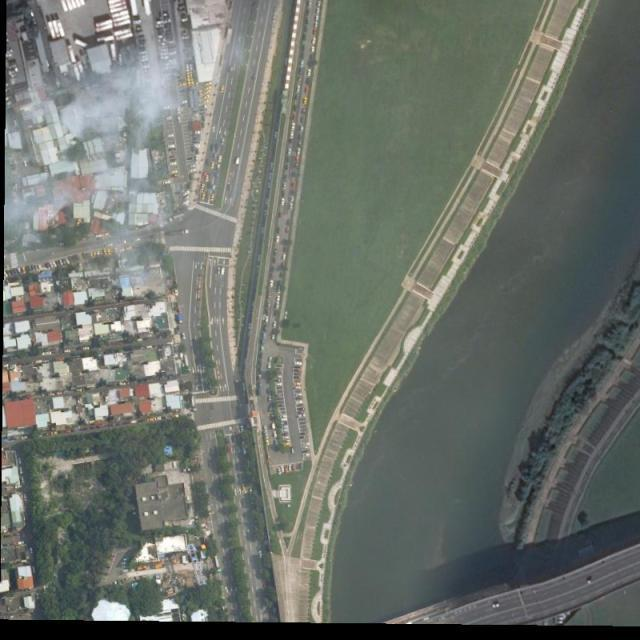vehicle: (75, 40, 93, 51), (114, 28, 132, 38), (115, 32, 133, 42), (56, 20, 66, 38), (95, 24, 114, 33), (77, 62, 87, 79), (52, 20, 61, 38), (72, 64, 81, 82), (113, 14, 130, 23), (111, 10, 128, 19), (110, 5, 127, 14), (48, 22, 57, 39), (110, 1, 126, 10), (95, 20, 112, 28), (68, 46, 76, 63), (169, 213, 184, 222), (114, 19, 130, 27), (110, 44, 117, 62), (60, 1, 69, 13), (167, 230, 188, 235), (97, 37, 114, 43), (65, 1, 74, 11), (108, 1, 125, 6), (70, 1, 78, 10), (202, 94, 210, 101), (75, 1, 82, 8), (183, 190, 190, 196), (202, 99, 210, 104), (491, 603, 499, 608), (49, 261, 54, 268), (106, 248, 111, 255), (77, 219, 82, 226), (201, 184, 206, 191), (204, 82, 211, 87), (79, 1, 86, 6), (283, 442, 291, 446), (170, 170, 178, 174), (52, 261, 57, 267), (22, 267, 26, 274), (58, 258, 62, 265), (266, 439, 270, 446), (277, 467, 281, 474), (285, 466, 289, 473), (296, 401, 303, 405), (294, 386, 301, 390), (270, 281, 274, 288), (290, 131, 294, 138), (167, 134, 174, 138), (297, 86, 301, 93), (103, 250, 108, 255), (205, 90, 210, 95), (205, 86, 210, 91), (38, 264, 42, 270), (90, 252, 94, 258), (294, 376, 302, 379), (265, 432, 269, 438), (281, 466, 285, 472), (303, 442, 309, 446), (281, 418, 287, 422), (298, 414, 306, 417), (282, 198, 285, 206), (298, 148, 301, 156), (183, 201, 189, 205), (218, 156, 222, 162), (211, 162, 214, 170), (222, 138, 225, 146), (170, 163, 178, 166), (218, 268, 221, 275), (222, 268, 225, 275), (277, 296, 280, 303), (278, 286, 281, 293), (295, 362, 302, 365), (274, 431, 277, 438), (280, 415, 287, 418), (295, 394, 302, 397), (294, 383, 301, 386), (199, 90, 202, 97), (304, 98, 307, 105), (313, 38, 316, 45), (291, 123, 294, 130), (211, 194, 214, 201), (206, 175, 209, 182), (189, 170, 196, 173), (195, 131, 202, 134), (134, 21, 141, 24), (268, 363, 271, 370), (283, 182, 286, 189), (182, 334, 186, 339), (175, 289, 178, 295), (274, 321, 277, 327), (94, 252, 97, 258), (97, 251, 100, 257), (276, 304, 279, 310), (263, 425, 266, 431), (272, 422, 275, 428), (308, 70, 311, 76), (314, 30, 317, 36), (315, 22, 318, 28), (190, 64, 193, 70), (180, 83, 186, 86), (190, 72, 193, 78), (191, 79, 194, 85), (164, 182, 170, 185), (178, 116, 181, 122), (157, 26, 163, 29), (186, 65, 189, 71), (222, 86, 225, 92), (188, 78, 190, 86), (292, 465, 295, 470), (317, 9, 320, 14), (318, 2, 321, 7), (187, 73, 190, 78), (288, 149, 291, 154), (203, 193, 206, 198), (282, 429, 289, 431), (281, 426, 288, 428), (266, 317, 268, 323), (289, 465, 291, 471), (277, 237, 279, 243), (301, 62, 304, 66), (312, 47, 314, 53), (189, 165, 195, 167), (168, 146, 174, 148), (162, 58, 168, 60), (272, 335, 274, 340), (316, 16, 318, 21), (194, 145, 199, 147), (295, 370, 302, 371), (282, 437, 289, 438)
